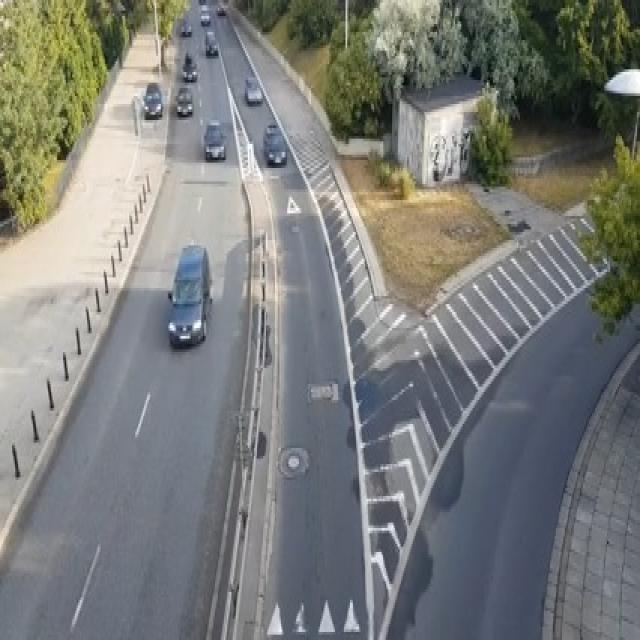car: (167, 242, 213, 346), (263, 120, 285, 165), (203, 120, 225, 160), (143, 80, 162, 117), (244, 75, 262, 104), (175, 85, 192, 115), (204, 29, 218, 56), (182, 59, 197, 80), (200, 5, 210, 24), (180, 18, 191, 34), (217, 3, 226, 13), (198, 0, 205, 5)
